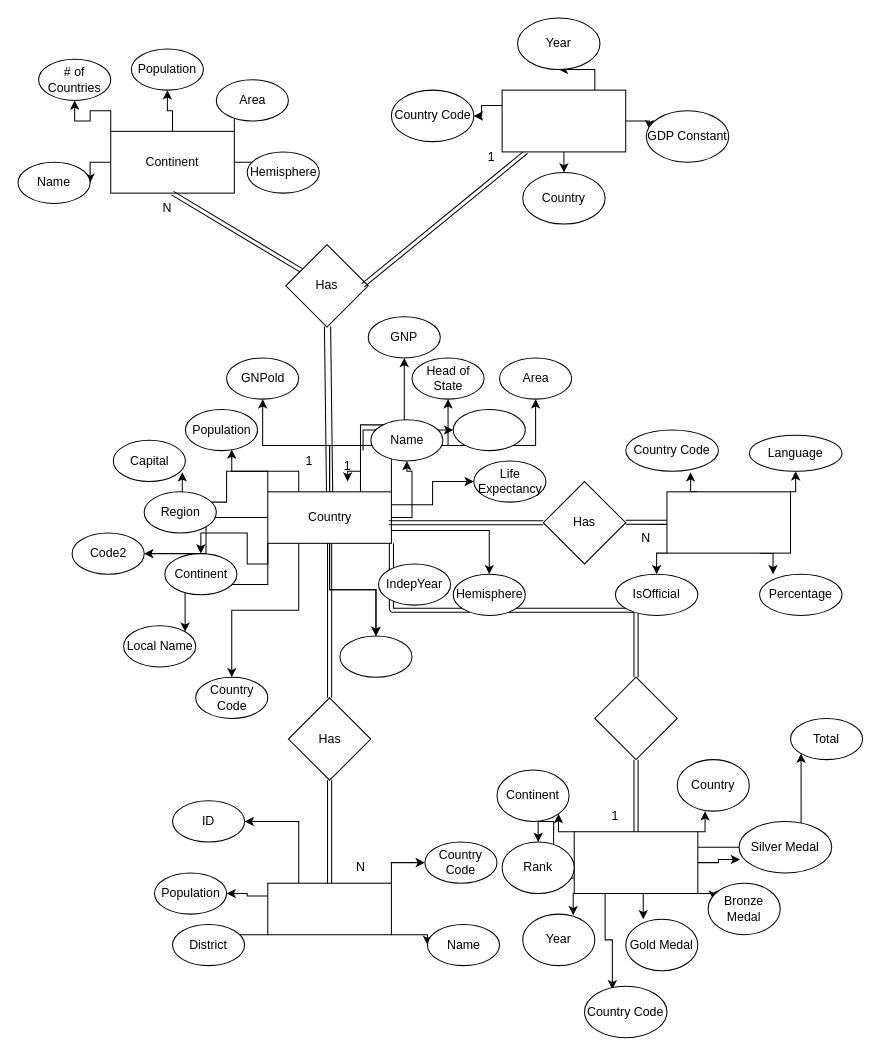
Image size: 881x1056. Some labels were removed from this diagram. The shapes that lost their labels are listed below. From the top down, each one's centre as x and y in pixels, then its label:
the point at 563,120: GDP
the point at 488,429: Surface Area
the point at 728,522: Country Language
the point at 375,656: Governement Form
the point at 635,718: Participated In
the point at 635,862: Tokyo Olympic
the point at 329,908: City
